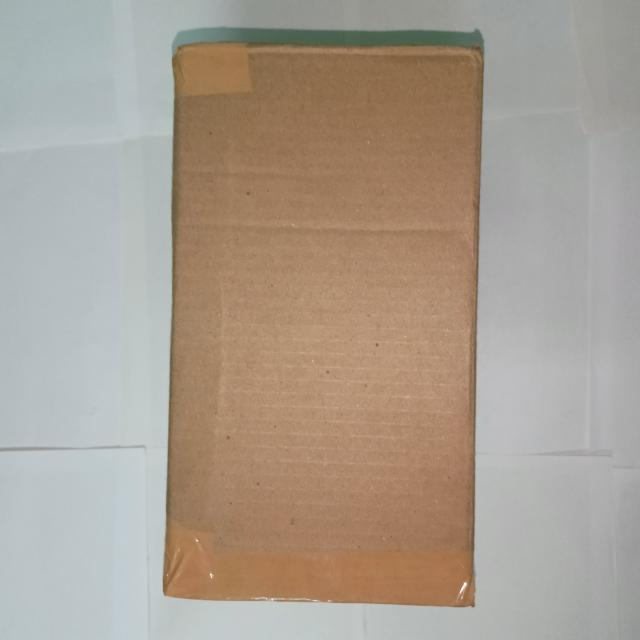box: (166, 55, 482, 605)
